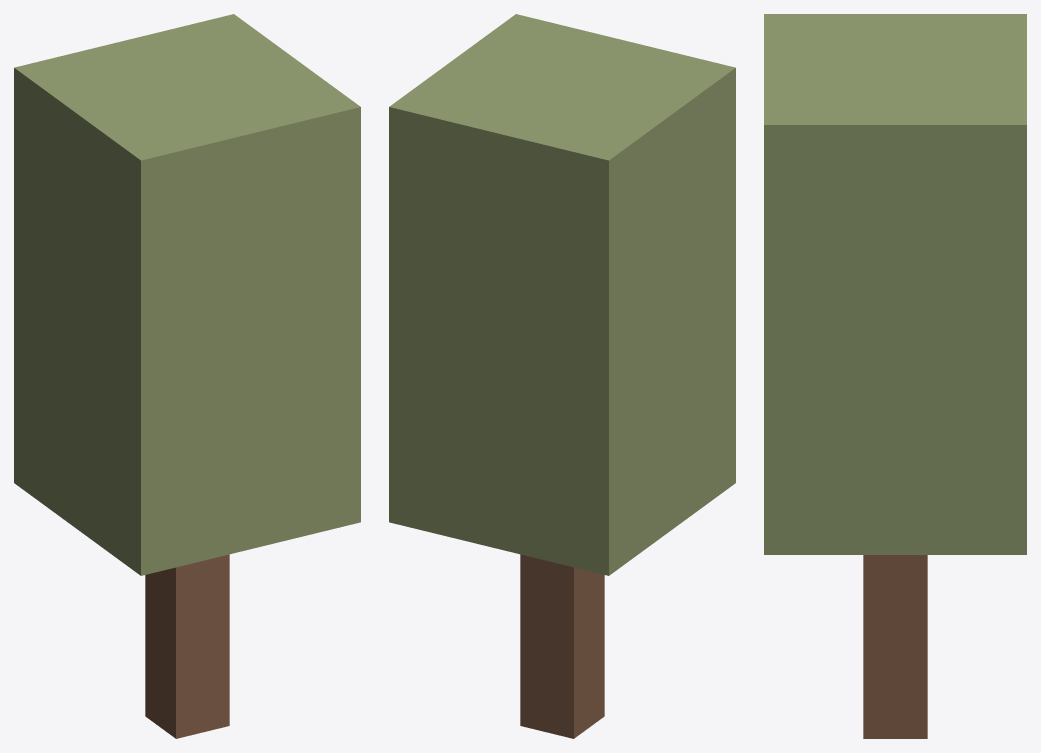
File: voxel_tree_3.fbx
3 renders of one model, left to right at view 1: azimuth 30°, elevation 25°; view 2: azimuth 150°, elevation 25°; view 3: azimuth 270°, elevation 25°, orthographic. The views are drawn at different scales.
Parts seen in each view (by area): view 1: voxel_tree_3; view 2: voxel_tree_3; view 3: voxel_tree_3.
Boxes of the visible parts, left/top/right/bottom form: voxel_tree_3: left=14, top=14, right=360, bottom=738; voxel_tree_3: left=389, top=14, right=735, bottom=738; voxel_tree_3: left=764, top=14, right=1026, bottom=738.
Bounding box in the file's own units: 184 × 507 × 184.
